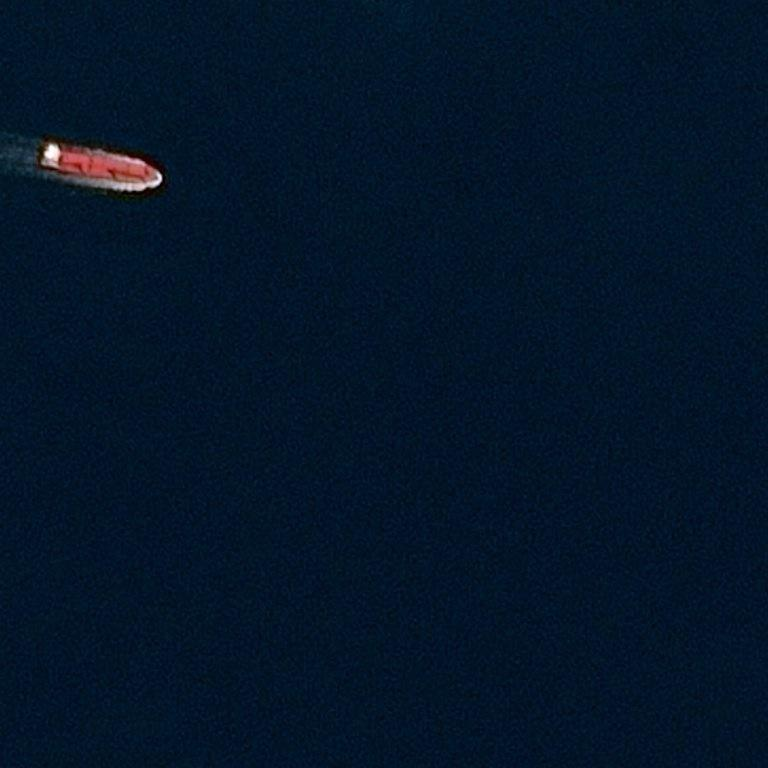ship: (0, 127, 54, 186), (154, 176, 157, 180), (40, 9, 44, 12), (44, 143, 48, 146)
